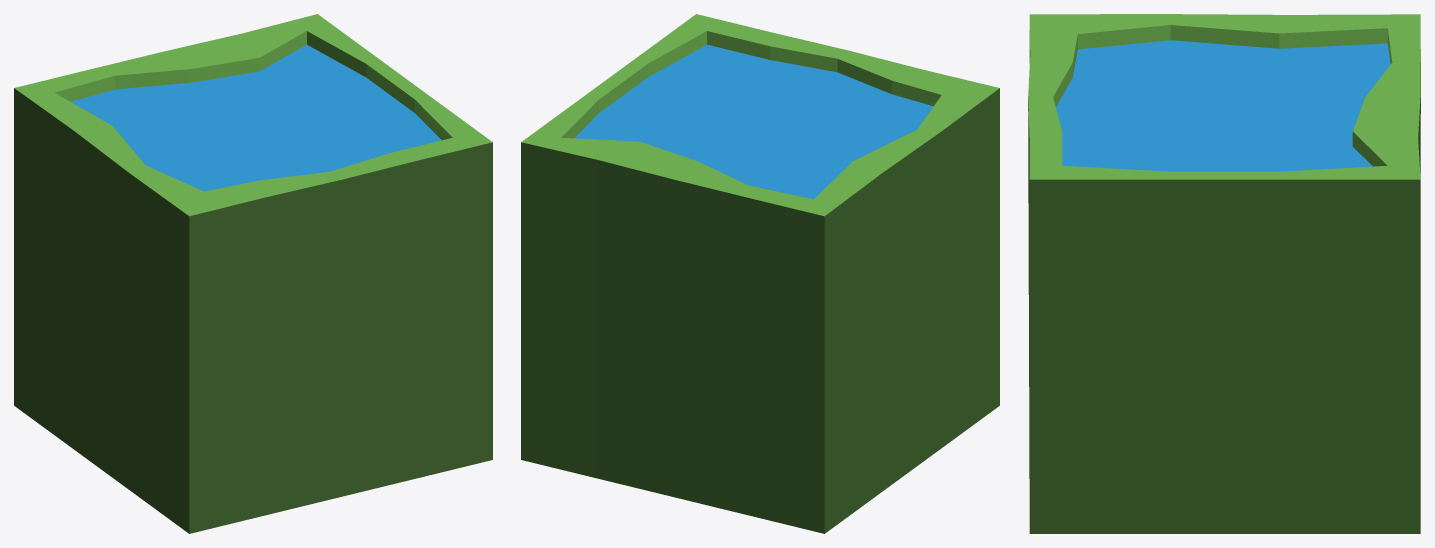
Rendered from IsometricTile_Light_WaterTile.fbx.
3 renders of one model, left to right at view 1: azimuth 30°, elevation 25°; view 2: azimuth 150°, elevation 25°; view 3: azimuth 270°, elevation 25°, orthographic. The views are drawn at different scales.
Parts seen in each view (by area): view 1: Cube.005; view 2: Cube.005; view 3: Cube.005.
Boxes of the visible parts, x1,y1,x2,y2 form: Cube.005: [14, 14, 492, 533]; Cube.005: [521, 14, 999, 533]; Cube.005: [1028, 14, 1420, 533].
Size of the model in its own units: 1 by 1 by 1.
